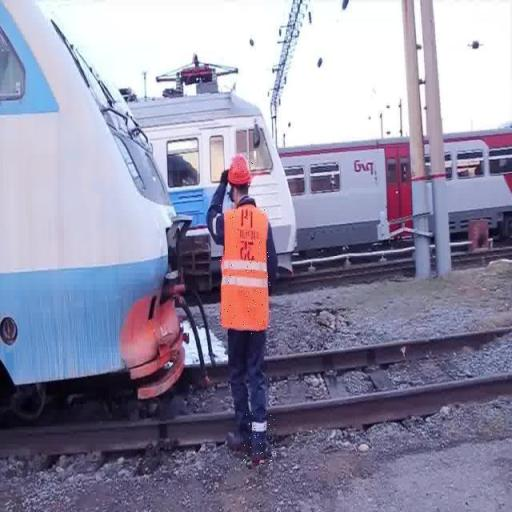Boots: (242, 414, 276, 468)
Helmet: (226, 156, 253, 186)
